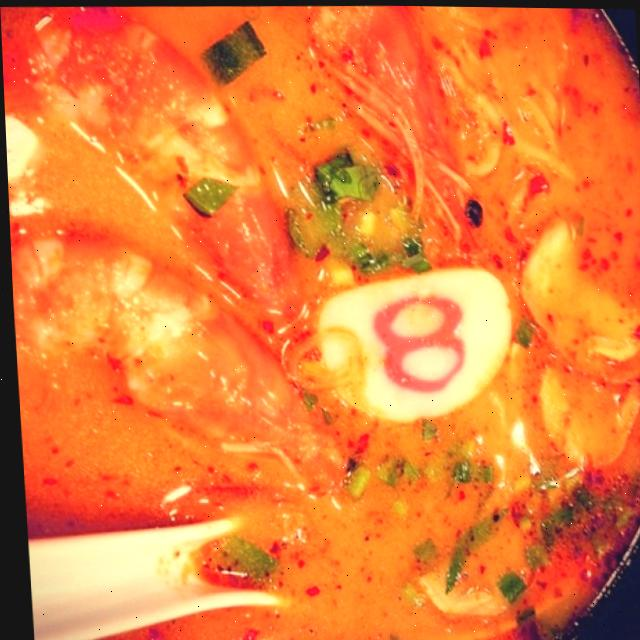汤锅炖物: (0, 0, 639, 613)
